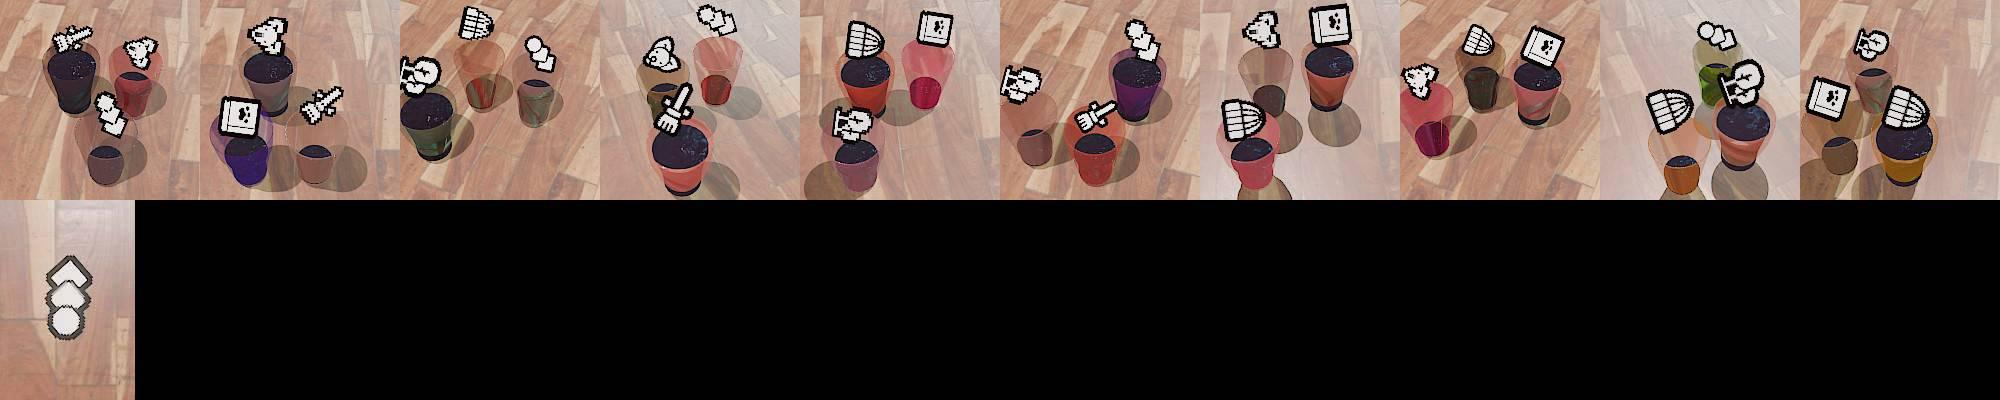icon: (42, 256, 94, 344), (1645, 89, 1694, 136), (652, 82, 694, 135), (1805, 75, 1852, 122), (1518, 24, 1566, 69), (1721, 59, 1765, 106), (1881, 85, 1930, 129), (1221, 97, 1267, 141), (1309, 3, 1353, 47), (217, 94, 263, 138), (297, 84, 344, 126), (399, 55, 443, 97), (1124, 18, 1162, 64), (830, 104, 875, 143), (247, 17, 288, 57), (844, 19, 884, 61), (1000, 65, 1041, 104), (1242, 10, 1281, 51), (1074, 97, 1117, 132), (916, 9, 954, 48), (94, 90, 125, 138), (643, 36, 680, 73), (695, 4, 736, 37), (51, 24, 94, 55), (1402, 64, 1439, 99), (459, 5, 494, 42), (524, 34, 557, 73), (1853, 28, 1890, 61), (1462, 23, 1496, 57), (124, 36, 158, 70), (1698, 20, 1736, 50)
